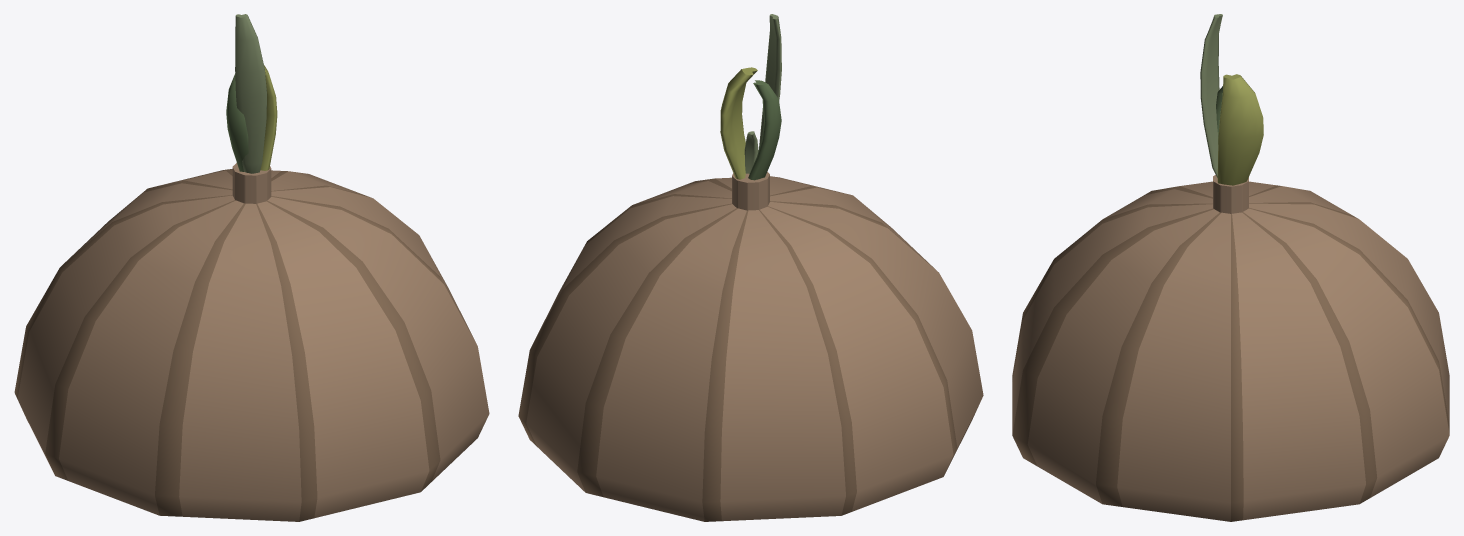
File: PL_onionStage1_01.fbx
3 renders of one model, left to right at view 1: azimuth 30°, elevation 25°; view 2: azimuth 150°, elevation 25°; view 3: azimuth 270°, elevation 25°, orthographic. The views are drawn at different scales.
Parts seen in each view (by area): view 1: PL_onionStage1_01; view 2: PL_onionStage1_01; view 3: PL_onionStage1_01.
Boxes of the visible parts, <box> form: PL_onionStage1_01: <box>14,14,489,521</box>; PL_onionStage1_01: <box>518,14,983,521</box>; PL_onionStage1_01: <box>1012,14,1449,521</box>.
Bounding box in the file's own units: 32.97 × 32.13 × 31.36.
Materials: 1 (1 with a texture image).
